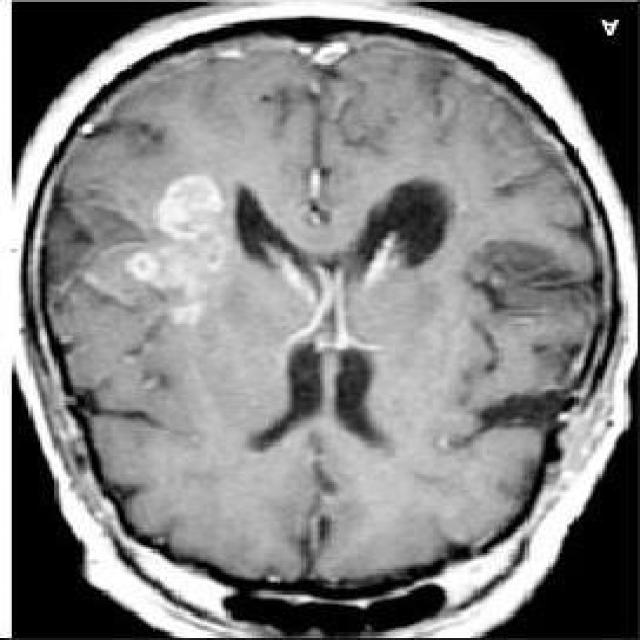Tumor-Cell: (118, 145, 240, 253)
